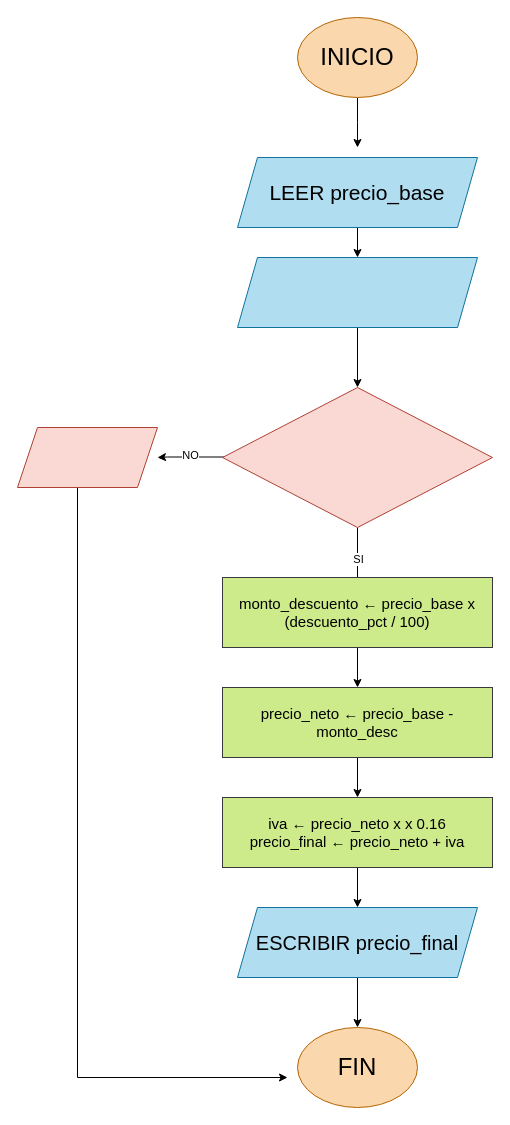
Some shapes in this 510 by 1125 pixel diagram are drawn without their labels. Each missing label, with the centre of its shape:
ERROR : precio: [87,457]
LEER precio_pct: [357,292]
¿precio_base > 0?: [357,457]
